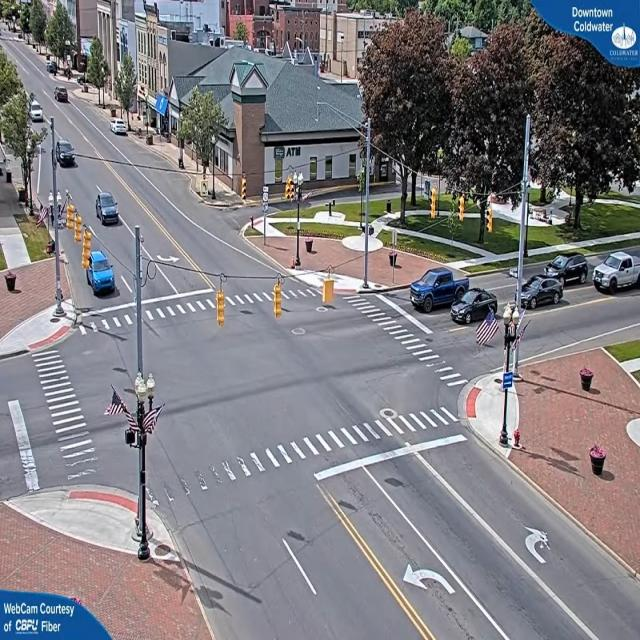car: (412, 267, 465, 313), (590, 251, 640, 295), (451, 286, 494, 324), (524, 273, 566, 308), (86, 247, 116, 295), (552, 253, 590, 281), (96, 191, 120, 225), (54, 138, 76, 170), (31, 102, 47, 122), (111, 120, 129, 136), (55, 86, 70, 103)
